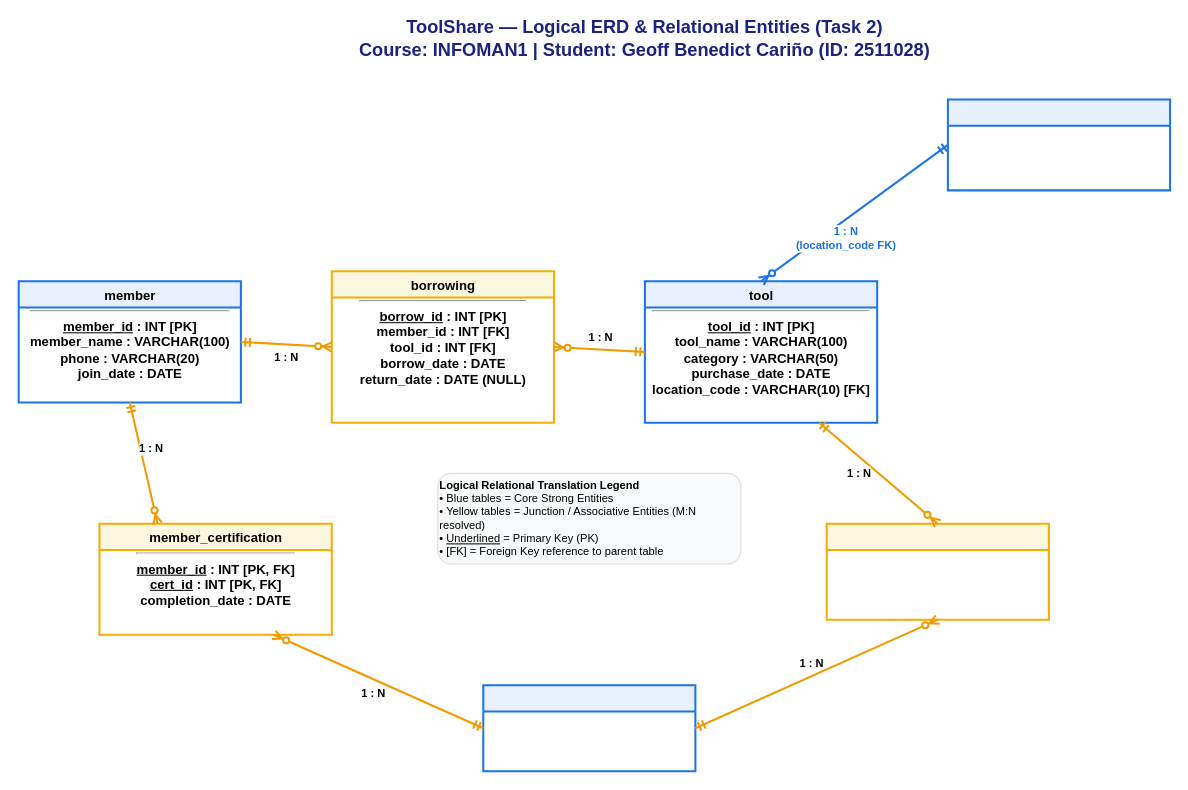
The diagram is 1188 pixels wide and 790 high, and some of its shapes have lost their labels. The centre of each missing label's shape, as x and y in pixels:
certification cert_id : INT [PK] cert_name : VARCHAR(100): the point at 589,728
storage_location location_code : VARCHAR(10) [PK] description : VARCHAR(100): the point at 1058,144
tool_requirement tool_id : INT [PK, FK] cert_id : INT [PK, FK]: the point at 937,571
